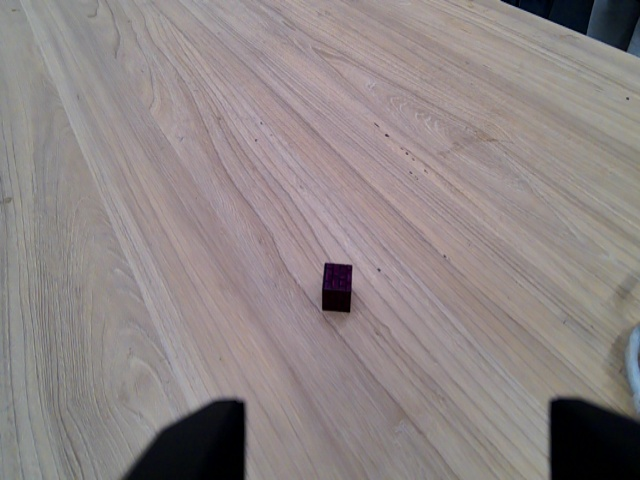brick: (315, 254, 359, 317)
